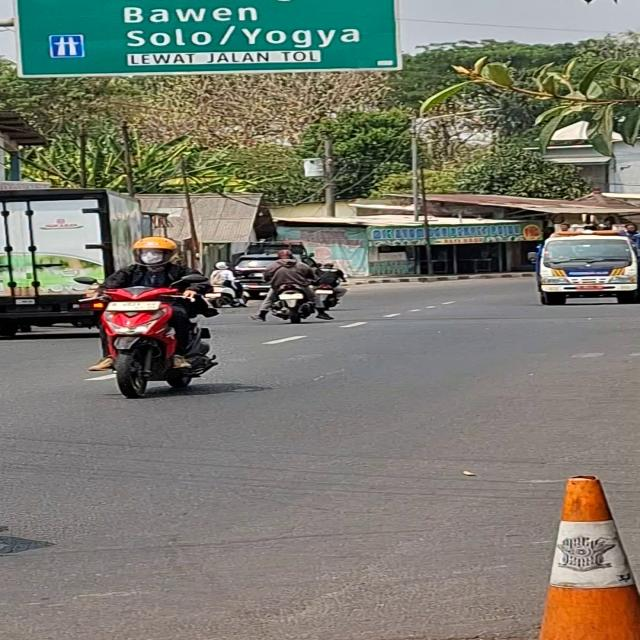WithHelmet: (84, 236, 219, 372), (310, 263, 351, 308), (209, 261, 248, 308)
WithoutHelmet: (254, 249, 317, 325)
